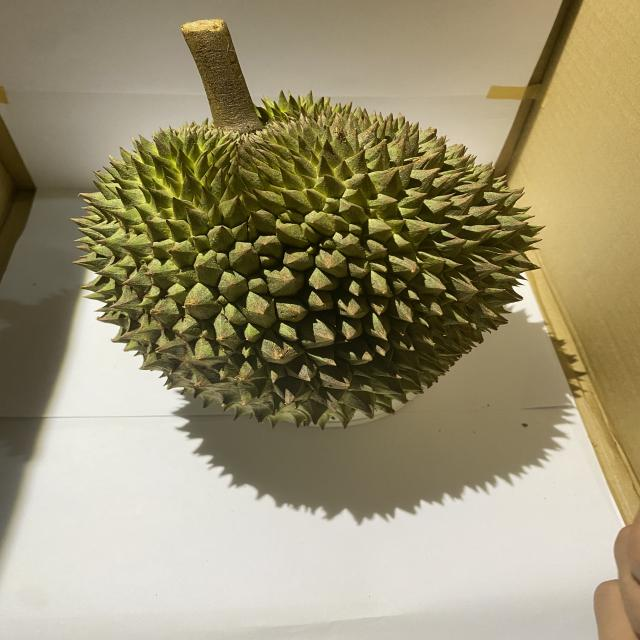immature: (69, 86, 548, 430)
